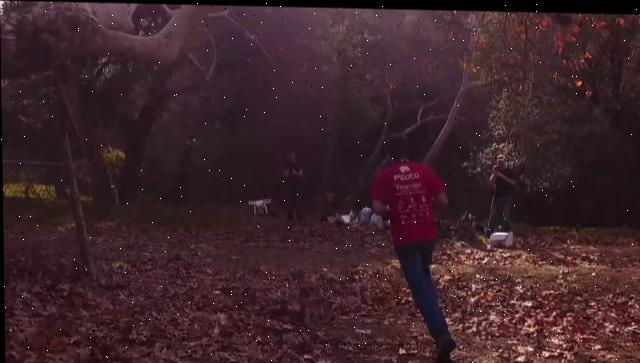drone: (246, 195, 272, 214)
